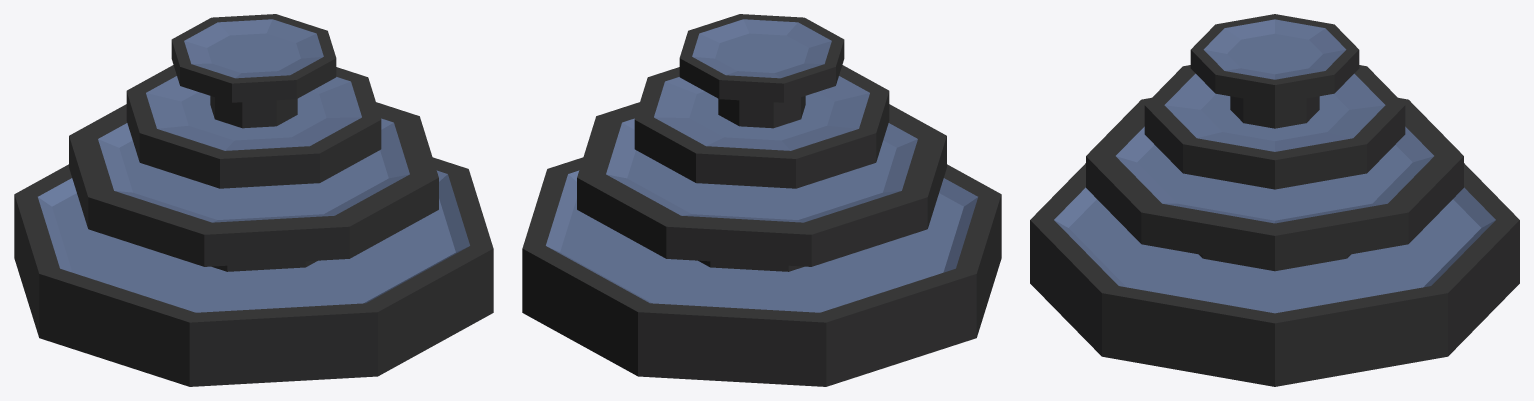
File: fountain2.fbx
The picture shows the model from 3 angles, left to right: view 1: azimuth 30°, elevation 25°; view 2: azimuth 150°, elevation 25°; view 3: azimuth 270°, elevation 25°; orthographic projection.
Parts seen in each view (by area): view 1: Fountain1.001; view 2: Fountain1.001; view 3: Fountain1.001.
Part boxes in pixels (box(x1,y1,x2,y2)): Fountain1.001: box(14, 14, 493, 386); Fountain1.001: box(522, 14, 1001, 386); Fountain1.001: box(1030, 14, 1519, 386).
Bounding box in the file's own units: 224 × 118 × 224.
